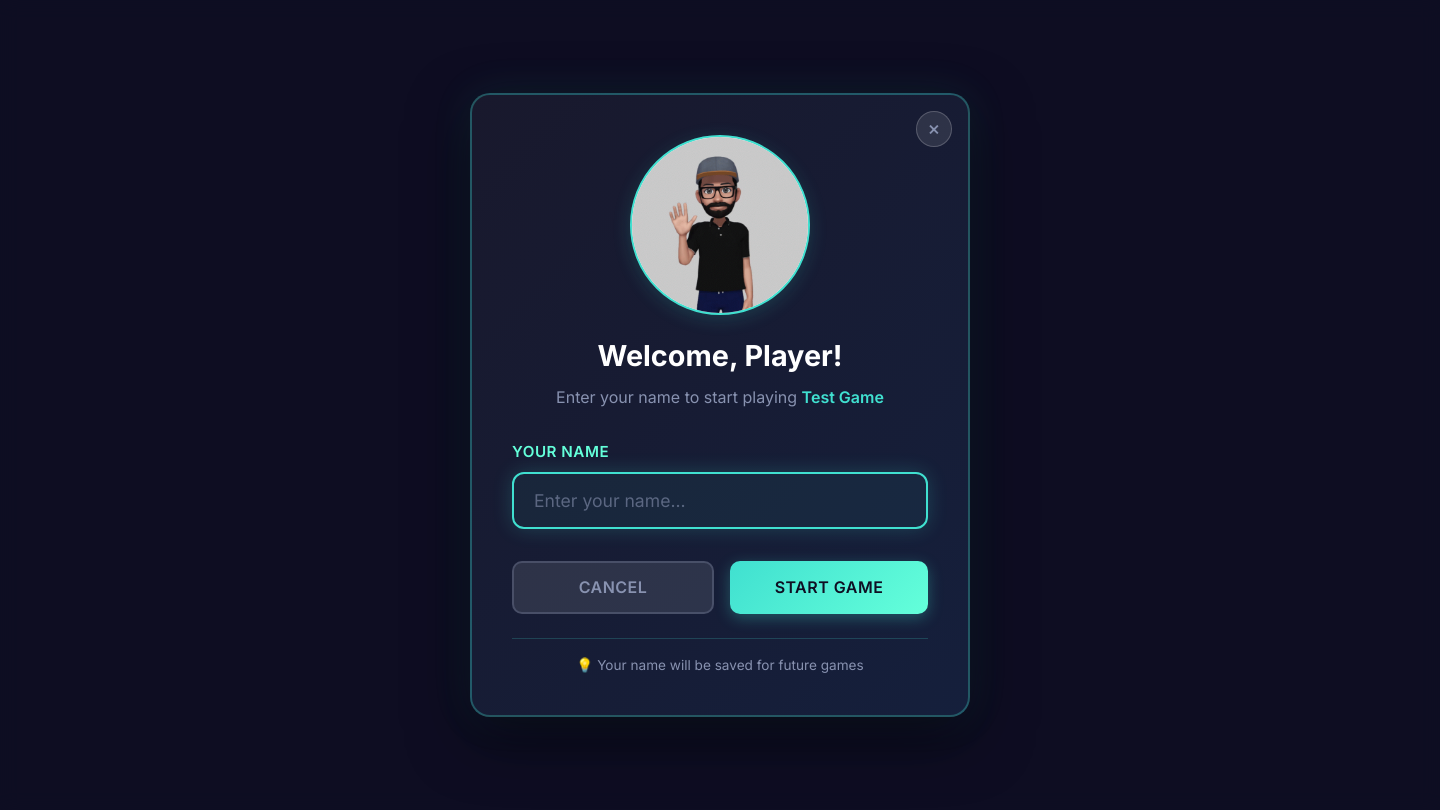
Test: PlayerNameModal › shows error for short name
Type "A" into the field with placeholder "Enter your name..." at (720, 500), box [512, 472, 928, 529]
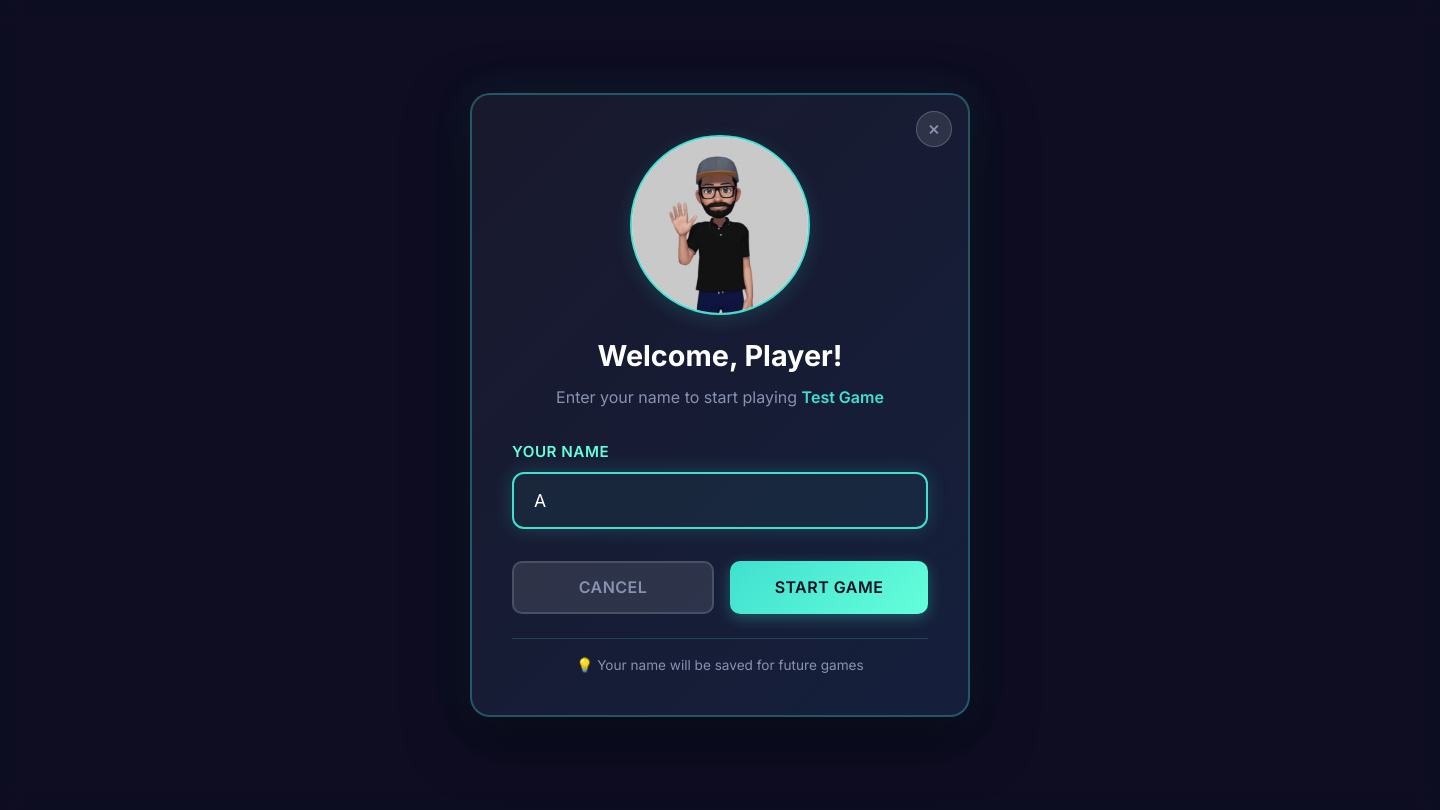
Click the button "Start Game" at (829, 587), box [730, 561, 928, 614]
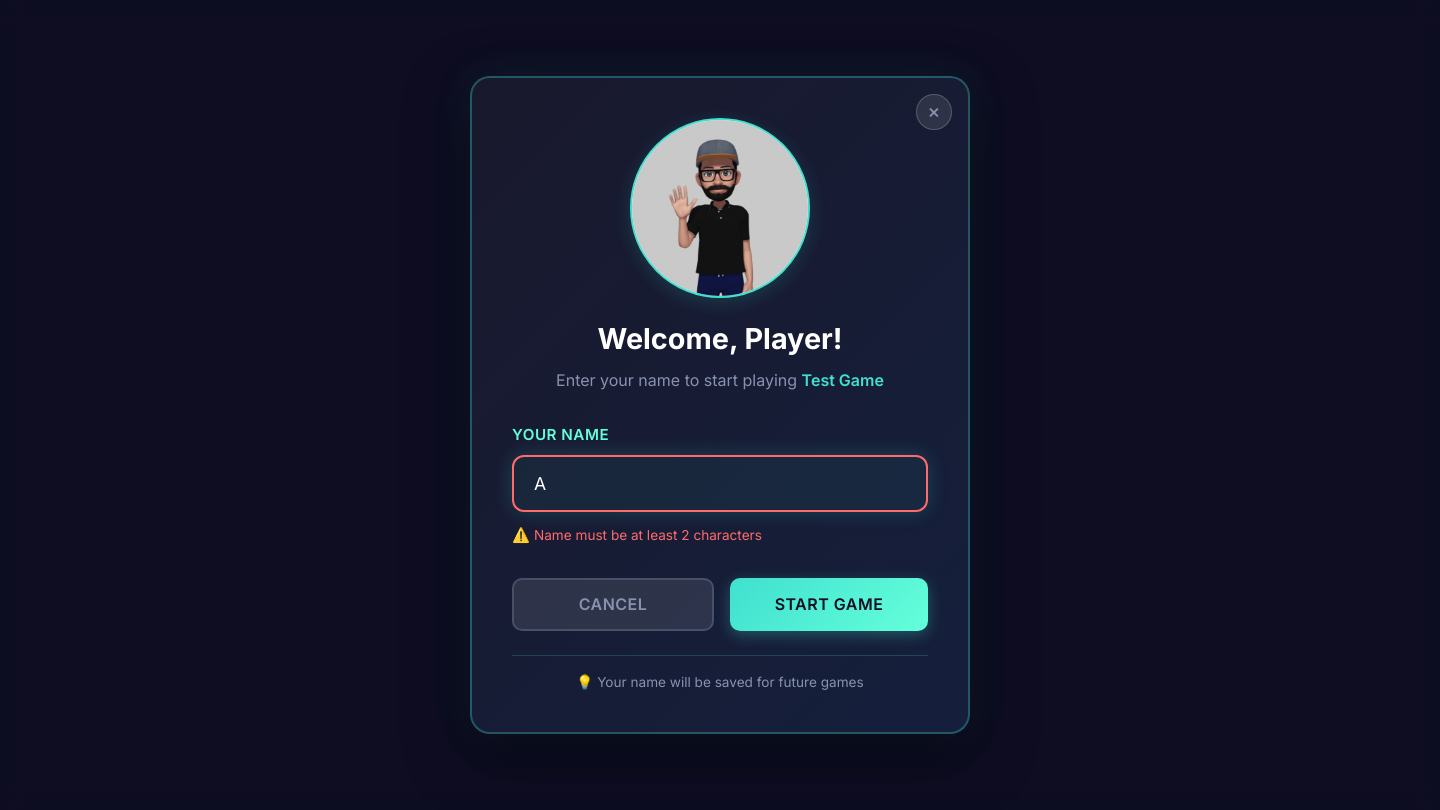
Check: the text "Name must be at least 2 characters" is shown, box [534, 527, 762, 543]
